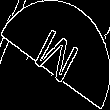M_SW: (28, 21, 82, 89)
